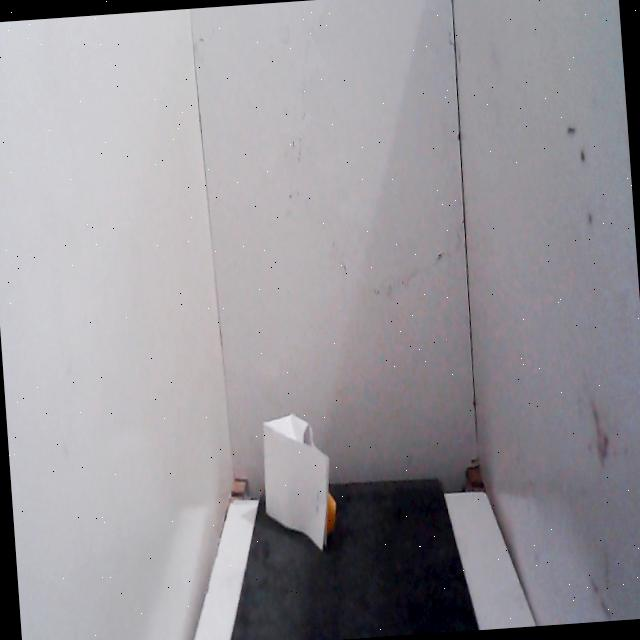papel: (254, 396, 343, 560)
